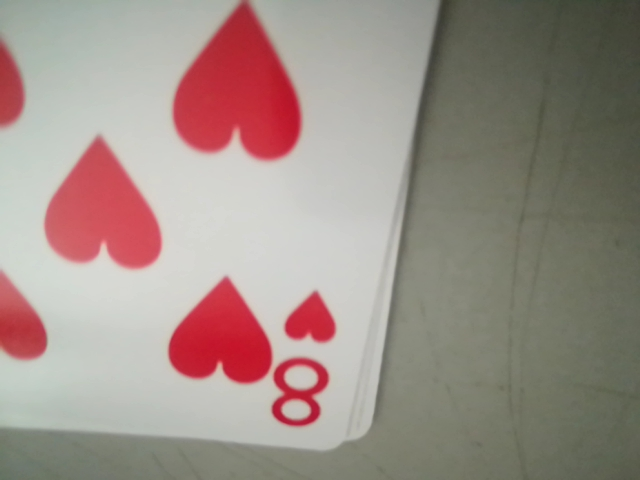hx 8: (269, 283, 346, 437)
